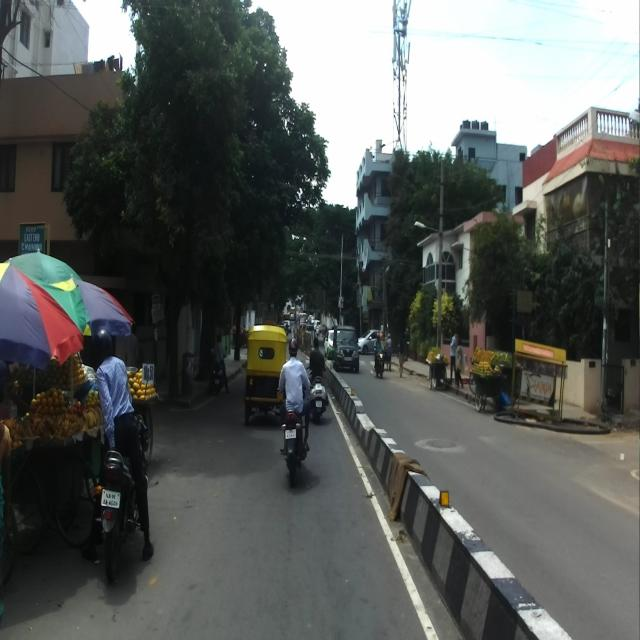motorcycle_TVS: (90, 408, 152, 582)
motorcycle_bajaj: (273, 381, 314, 488)
